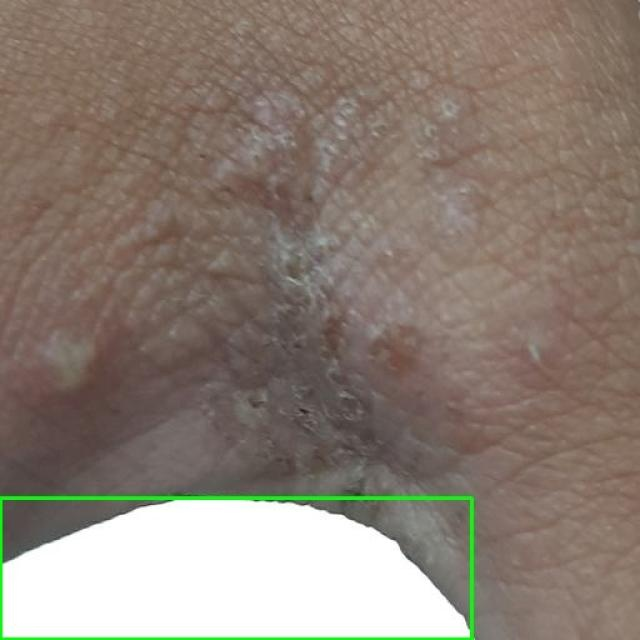Scabies: (0, 498, 472, 639)
